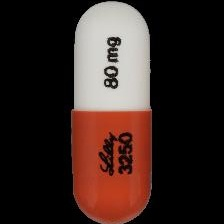0002-3250: (0, 0, 224, 224)
